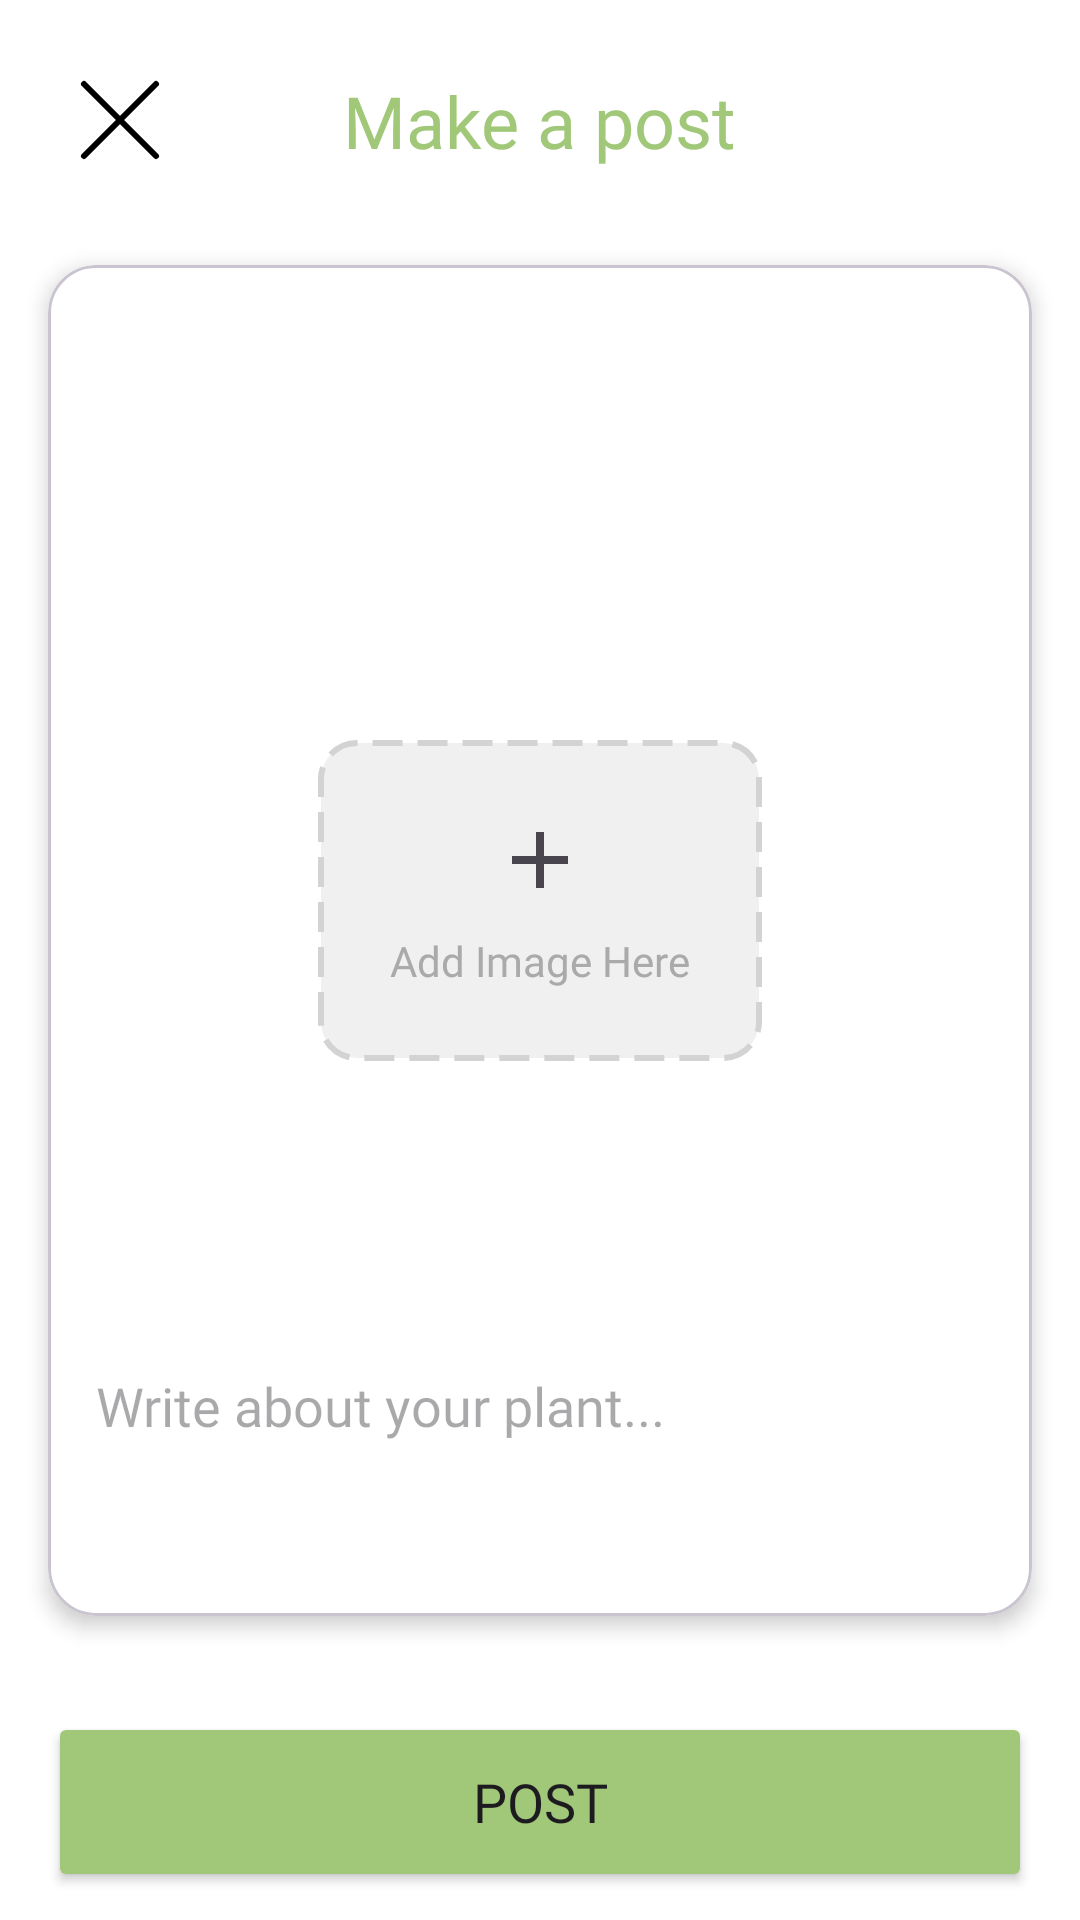

Icons on this 1080*1920 Android screen, each with its box as (x1, y1, x2, y2):
close profile: (81, 80, 159, 159)
